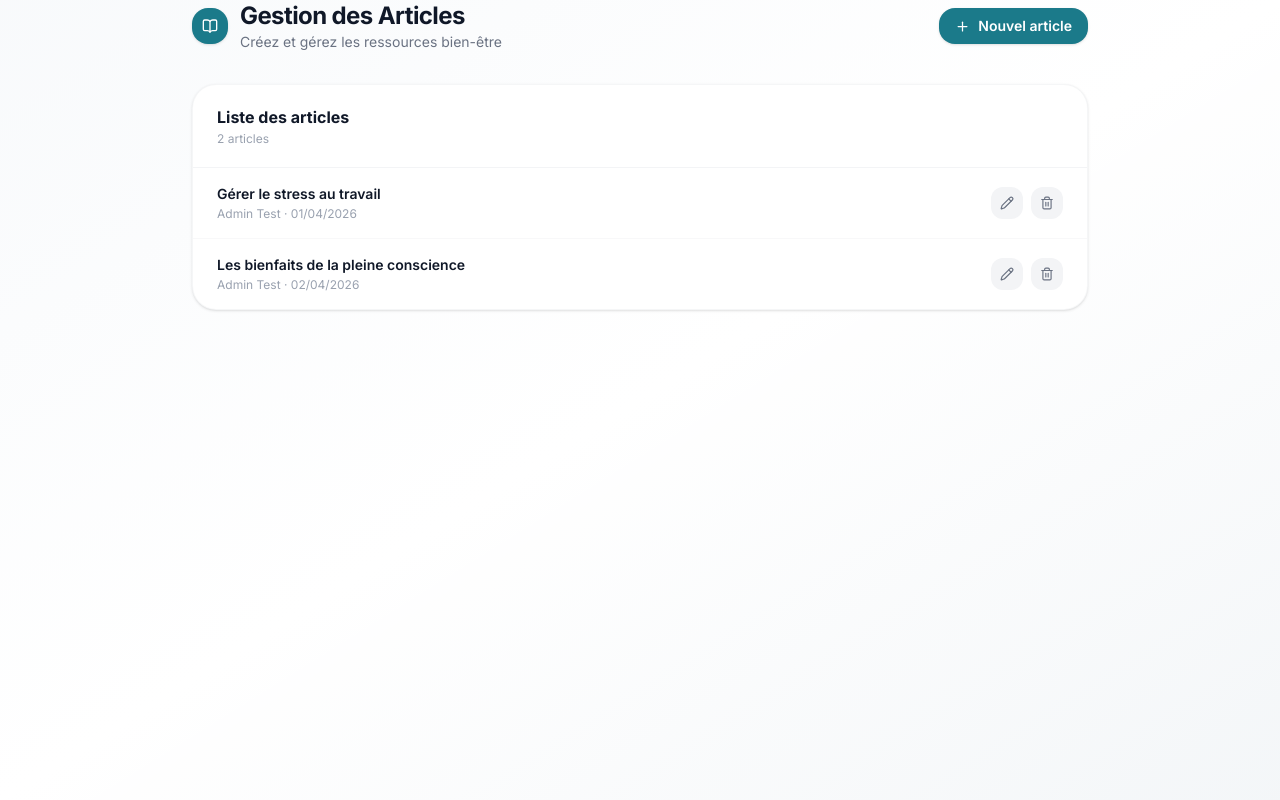
Scenario: AdminArticles — Confirmation de suppression › ouvre la modal de confirmation au clic Supprimer
The image size is (1280, 800).
Click the button titled "Supprimer" in the row of "Gérer le stress au travail": (1047, 203) left=1031, top=187, right=1063, bottom=219
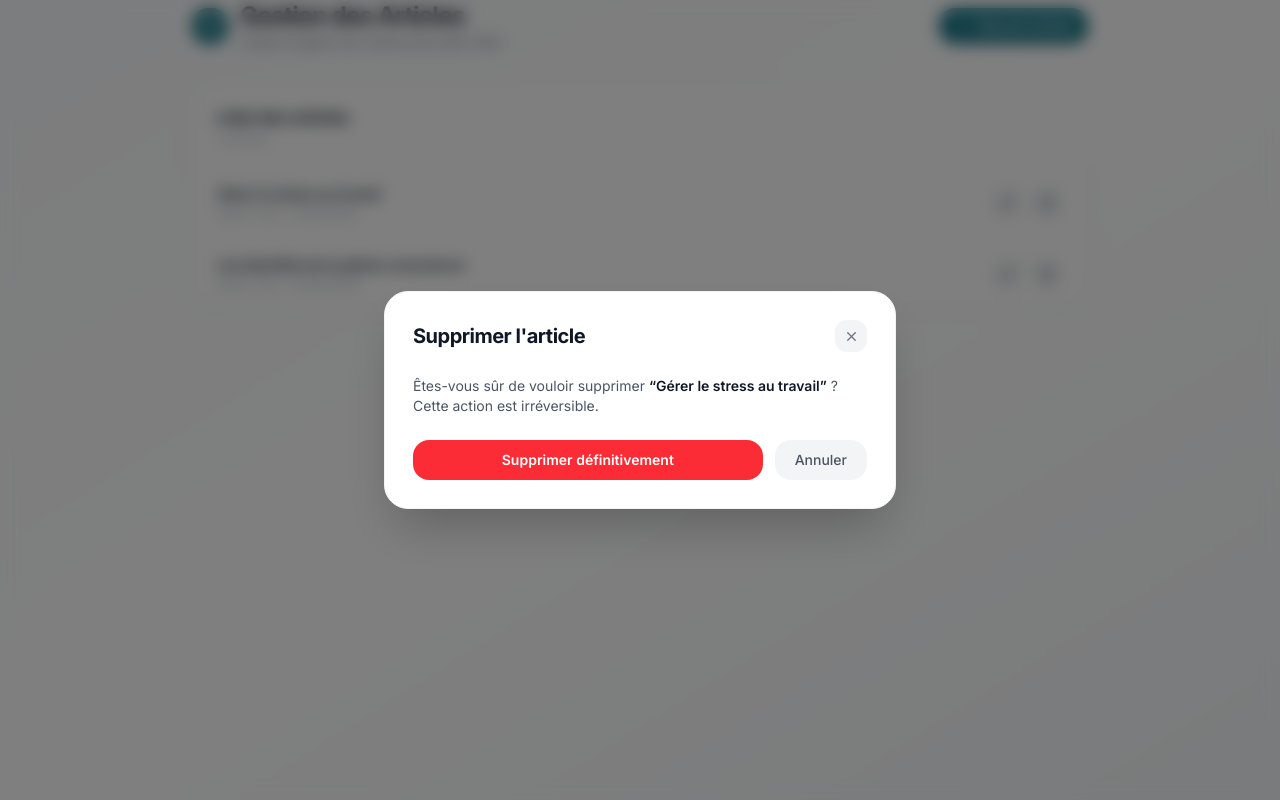
Expected: the button "Supprimer définitivement" is shown, left=413, top=440, right=763, bottom=480
